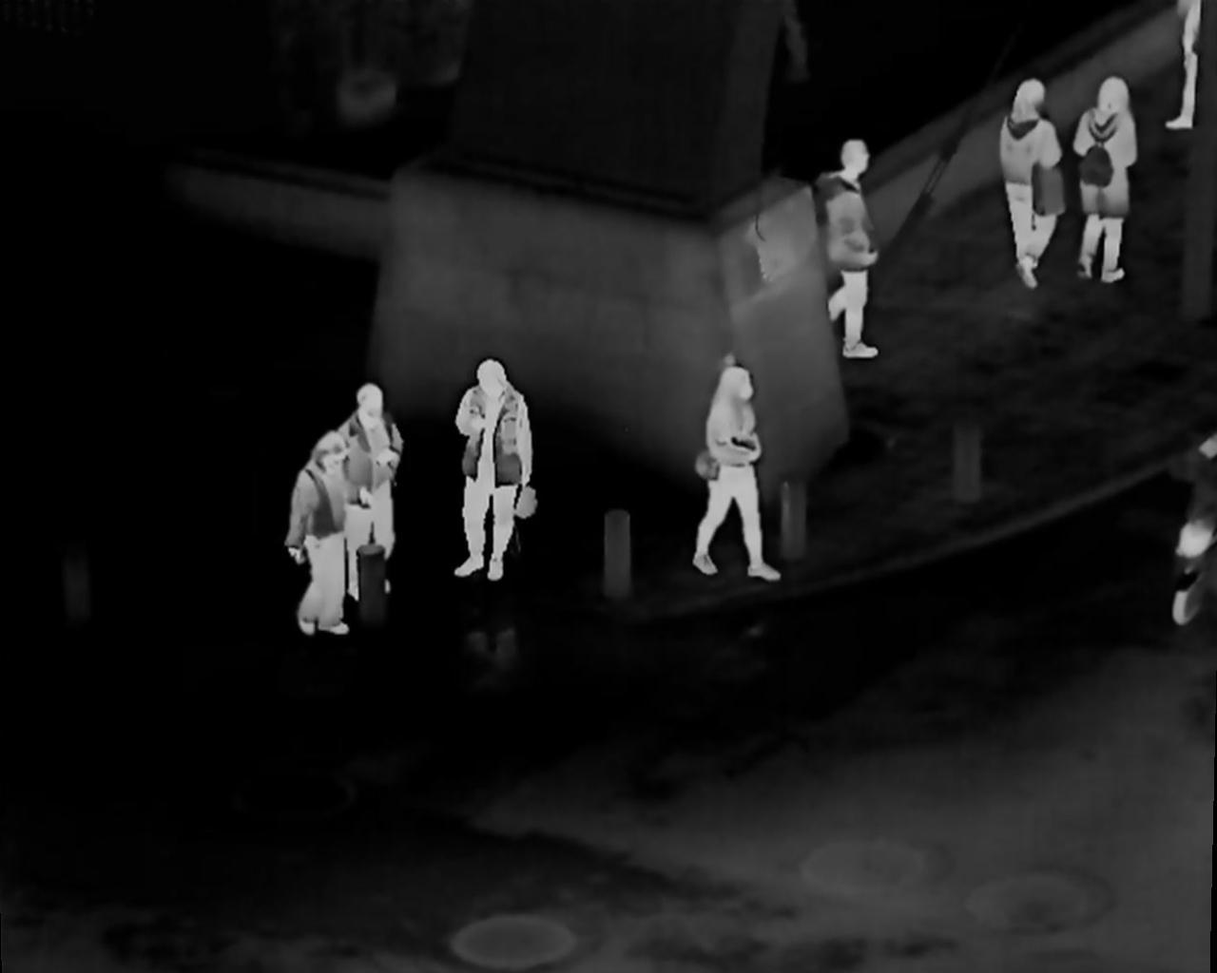person: (693, 364, 781, 582), (1072, 74, 1144, 294), (327, 384, 407, 580), (459, 361, 529, 581), (287, 436, 353, 638), (818, 139, 877, 357), (999, 83, 1061, 283)
